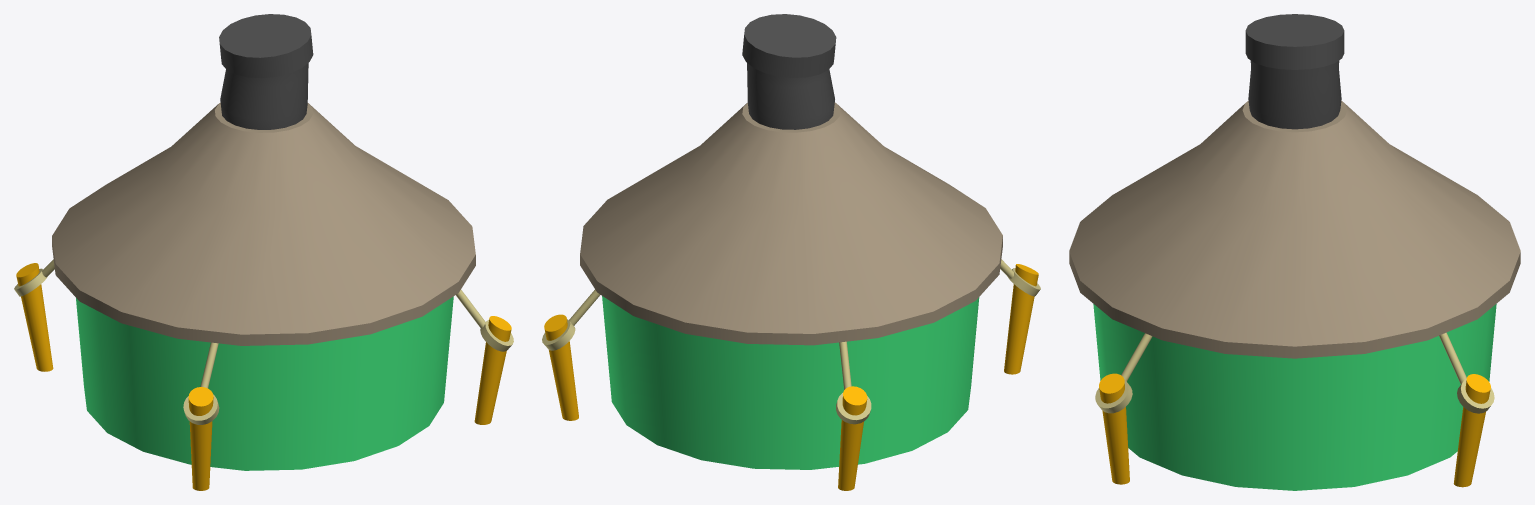
File: hut_test.fbx
The picture shows the model from 3 angles, left to right: view 1: azimuth 30°, elevation 25°; view 2: azimuth 150°, elevation 25°; view 3: azimuth 270°, elevation 25°; orthographic projection. The views are drawn at different scales.
Parts seen in each view (by area): view 1: pCylinder119, pCylinder118, pCylinder122 (×3), pCylinder121, pCylinder120; view 2: pCylinder119, pCylinder118, pCylinder122 (×3), pCylinder121, pCylinder120; view 3: pCylinder119, pCylinder118, pCylinder120, pCylinder121, pCylinder122 (×2), pCylinder123 (×2).
Boxes of the visible parts, left/top/right/bottom form: pCylinder119: left=52, top=102, right=475, bottom=345; pCylinder118: left=76, top=296, right=453, bottom=470; pCylinder122 (×3): left=16, top=263, right=511, bottom=490; pCylinder121: left=219, top=14, right=313, bottom=78; pCylinder120: left=220, top=63, right=308, bottom=129; pCylinder119: left=580, top=102, right=1002, bottom=345; pCylinder118: left=602, top=296, right=979, bottom=469; pCylinder122 (×3): left=544, top=264, right=1038, bottom=490; pCylinder121: left=742, top=14, right=836, bottom=77; pCylinder120: left=747, top=63, right=834, bottom=129; pCylinder119: left=1069, top=100, right=1520, bottom=358; pCylinder118: left=1093, top=304, right=1496, bottom=490; pCylinder120: left=1248, top=60, right=1341, bottom=129; pCylinder121: left=1245, top=14, right=1344, bottom=69; pCylinder122 (×2): left=1099, top=373, right=1490, bottom=487; pCylinder123 (×2): left=1095, top=379, right=1494, bottom=413.
Bounding box in the file's own units: 234 × 220 × 234.
